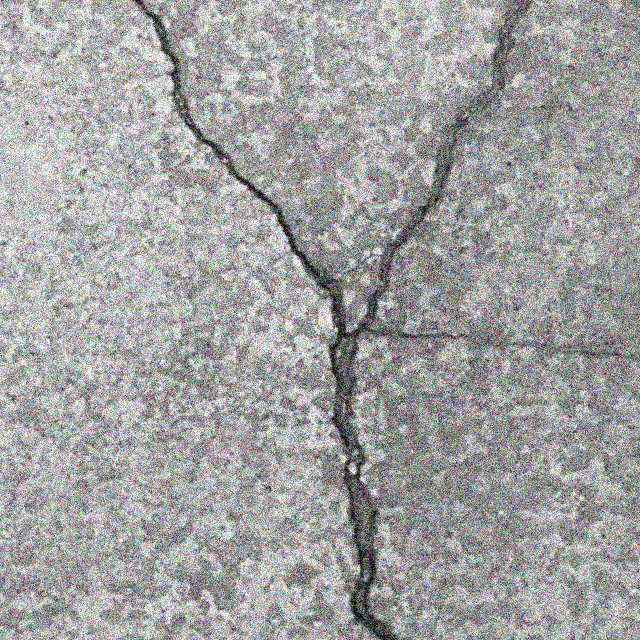SurfaceCrack: (64, 0, 639, 636)
